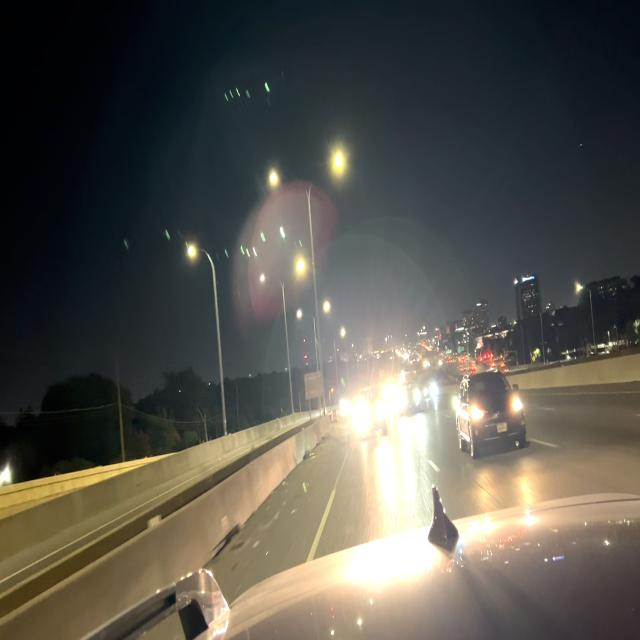back-of-sign: (302, 369, 325, 402)
